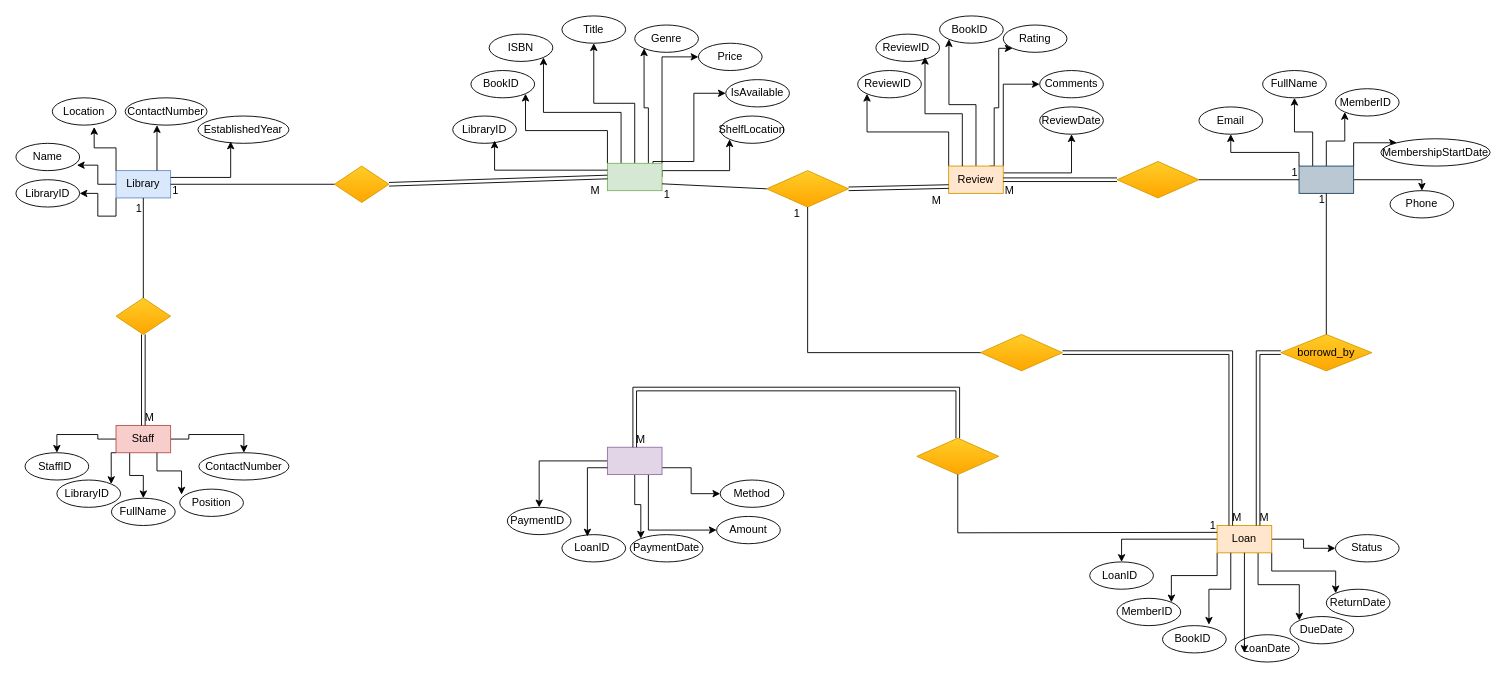
Image size: 1506x678. Some labels were removed from this diagram. Each missing label, with the centre of its shape:
"Book" belongs at (x=634, y=176).
"employs" belongs at (x=143, y=315).
"Has" belongs at (x=957, y=456).
"Loaned_in" belongs at (x=1021, y=352).
"Member" belongs at (x=1326, y=179).
"Owns" belongs at (x=361, y=183).
"Payment" belongs at (x=634, y=460).
"Reviwed_in" belongs at (x=807, y=188).
"Writtten_by" belongs at (x=1157, y=179).
